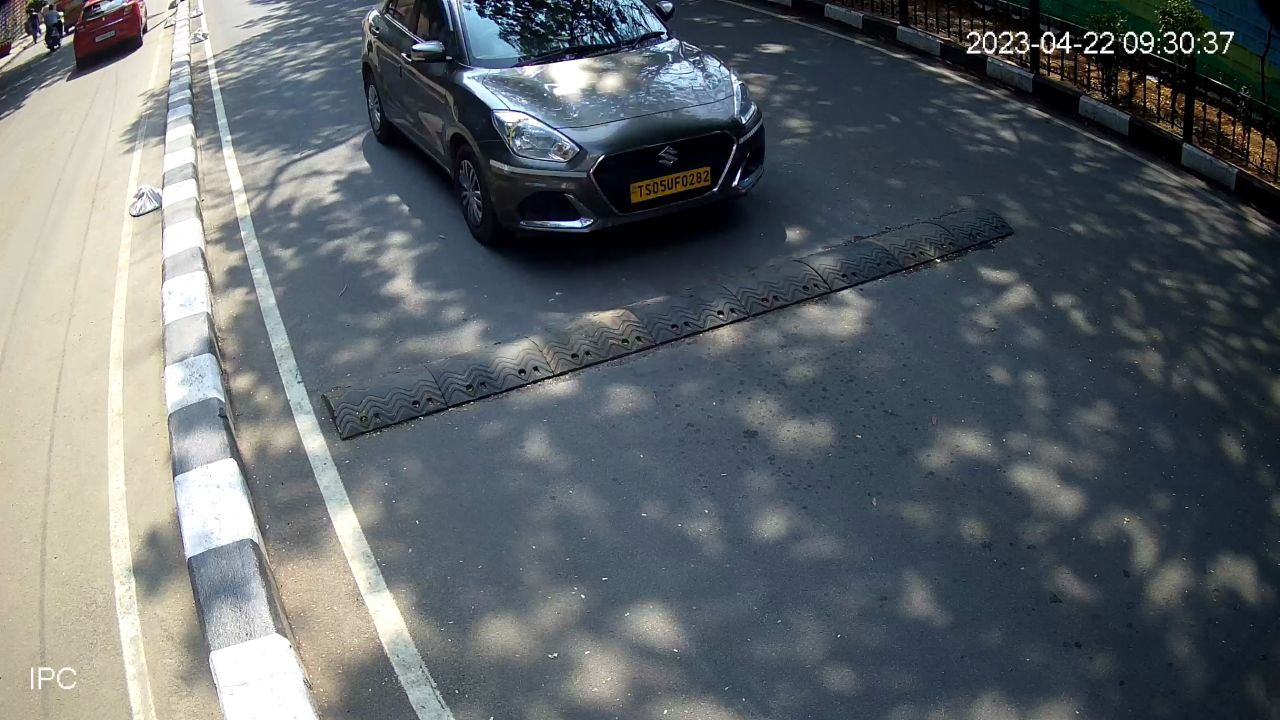license_plate: (625, 161, 716, 211)
